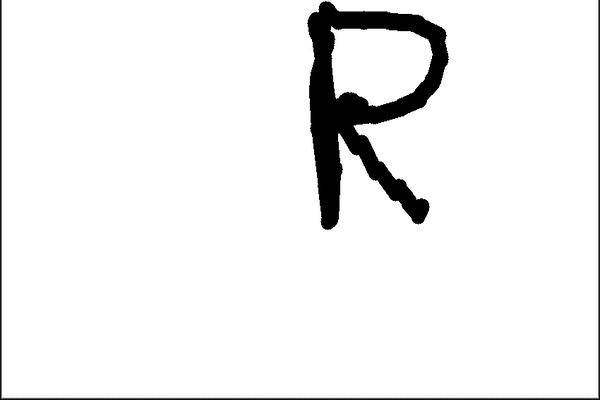R: (287, 0, 454, 243)
